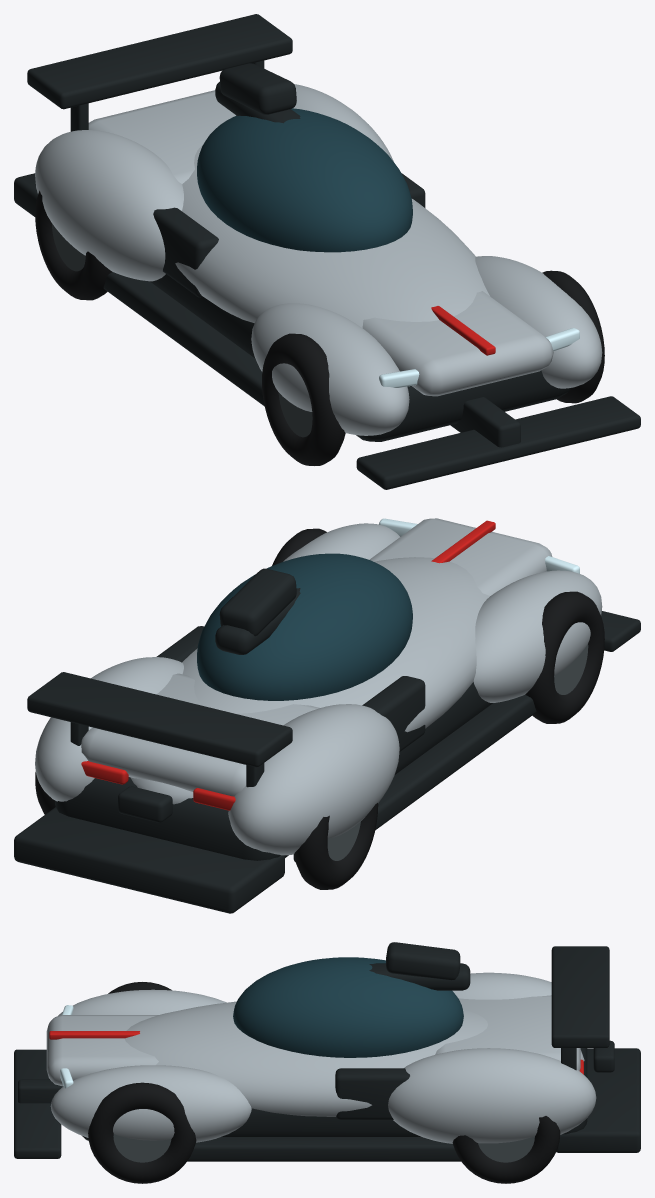
Rendered from mercedes-amg-one.glb.
3 views of the same model, one above another, from view 1: azimuth 30°, elevation 25°; view 2: azimuth 150°, elevation 25°; view 3: azimuth 270°, elevation 25° (orthographic). The views are drawn at different scales.
Visible parts, largest first — view 1: cabin_0006, body_0005, body_0021, body_0023, body_0010, body_0030, body_0012, body_0011, body_0004, wheels_0034, body_0014, body_0019 (+11 smaller); view 2: cabin_0006, body_0021, body_0005, body_0020, body_0023, body_0010, body_0004, body_0019, body_0030, body_0014, wheels_0034, body_0022 (+14 smaller); view 3: cabin_0006, body_0022, body_0005, body_0011, body_0027, body_0023, wheels_0032, body_0020, body_0030, body_0019, body_0004, body_0012 (+12 smaller).
Boxes of the visible parts, bbox=[...] form: cabin_0006: bbox=[197, 108, 412, 252]; body_0005: bbox=[175, 145, 489, 327]; body_0021: bbox=[35, 130, 183, 281]; body_0023: bbox=[27, 14, 292, 109]; body_0010: bbox=[251, 303, 409, 435]; body_0030: bbox=[362, 291, 553, 396]; body_0012: bbox=[356, 396, 640, 489]; body_0011: bbox=[475, 256, 602, 388]; body_0004: bbox=[150, 274, 570, 441]; wheels_0034: bbox=[262, 333, 345, 465]; body_0014: bbox=[103, 272, 264, 406]; body_0019: bbox=[88, 90, 235, 183]; cabin_0006: bbox=[197, 553, 412, 700]; body_0021: bbox=[228, 704, 399, 855]; body_0005: bbox=[130, 557, 489, 804]; body_0020: bbox=[14, 807, 284, 913]; body_0023: bbox=[27, 672, 292, 767]; body_0010: bbox=[473, 570, 602, 702]; body_0004: bbox=[55, 682, 492, 860]; body_0019: bbox=[81, 673, 319, 796]; body_0030: bbox=[369, 518, 552, 595]; body_0014: bbox=[293, 695, 536, 862]; wheels_0034: bbox=[525, 591, 604, 723]; body_0022: bbox=[35, 657, 183, 801]; cabin_0006: bbox=[233, 957, 463, 1057]; body_0022: bbox=[388, 1048, 596, 1143]; body_0005: bbox=[124, 1001, 584, 1116]; body_0011: bbox=[50, 1065, 251, 1142]; body_0027: bbox=[187, 1137, 460, 1161]; body_0023: bbox=[551, 946, 609, 1047]; wheels_0032: bbox=[88, 1082, 196, 1183]; body_0020: bbox=[556, 1048, 640, 1152]; body_0030: bbox=[46, 1015, 158, 1086]; body_0019: bbox=[435, 995, 580, 1070]; body_0004: bbox=[82, 1048, 587, 1140]; body_0012: bbox=[14, 1049, 61, 1158].
Bounding box in the file's own units: 2.11 × 1.55 × 4.75.
